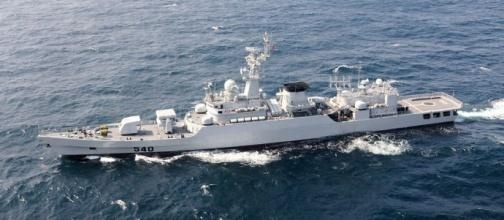warship: (36, 35, 461, 161)
